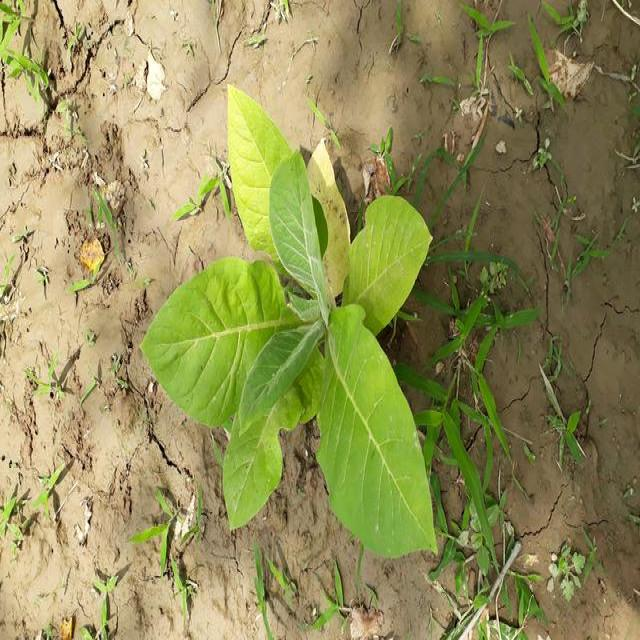crop: (154, 86, 458, 550)
